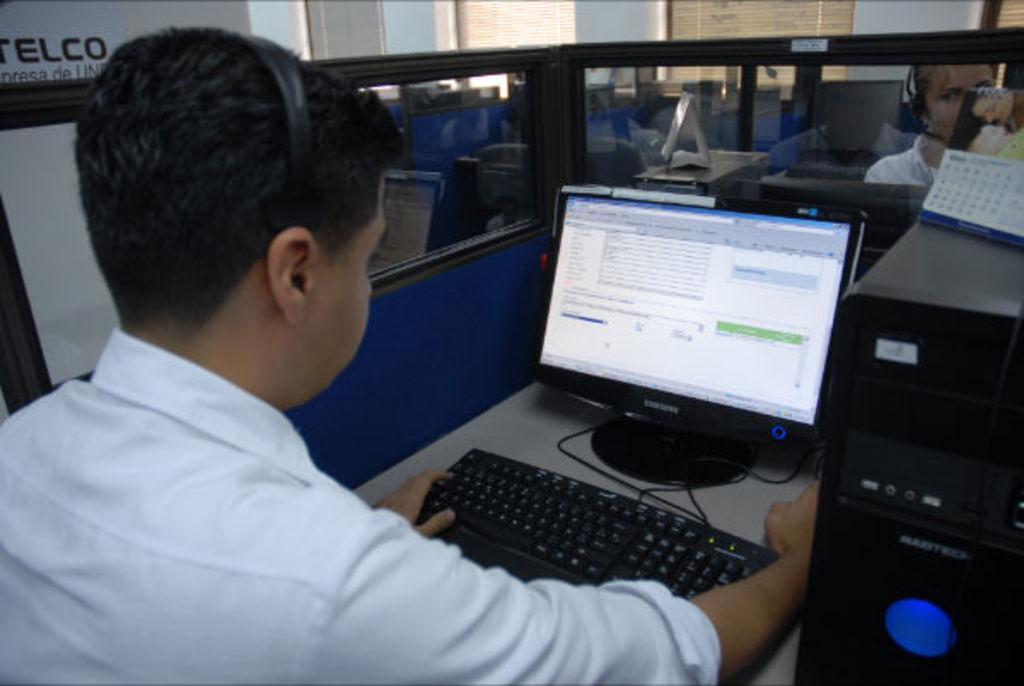Computer-monitor: (505, 172, 867, 517), (370, 172, 442, 275)
